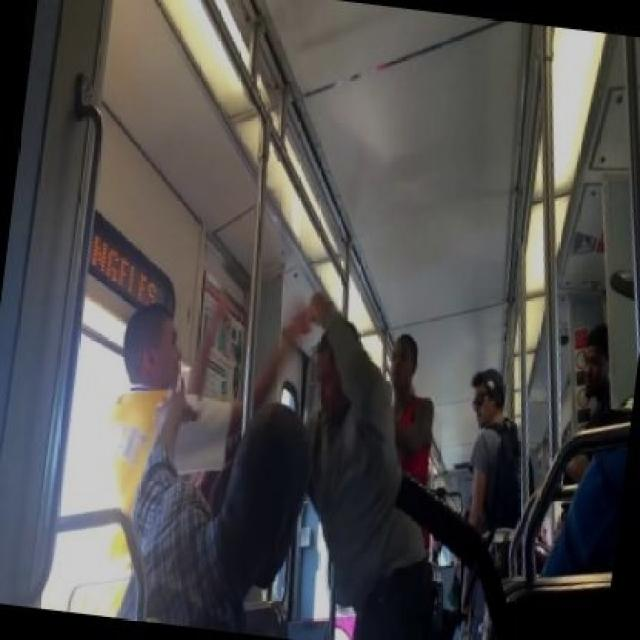fight: (110, 294, 437, 638)
non-fight: (458, 360, 536, 640)
